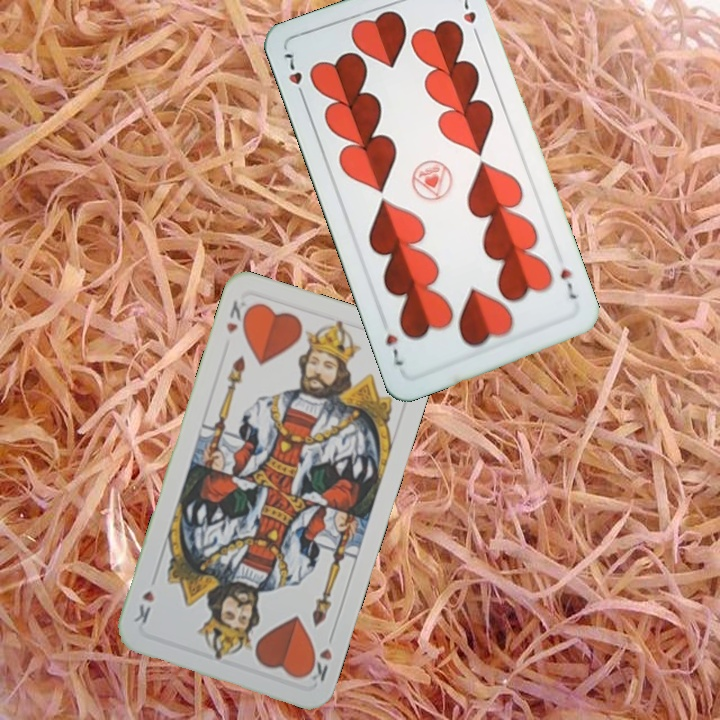H7: (280, 49, 309, 104), (556, 265, 580, 302)
HK: (302, 644, 335, 684), (222, 296, 254, 337)
